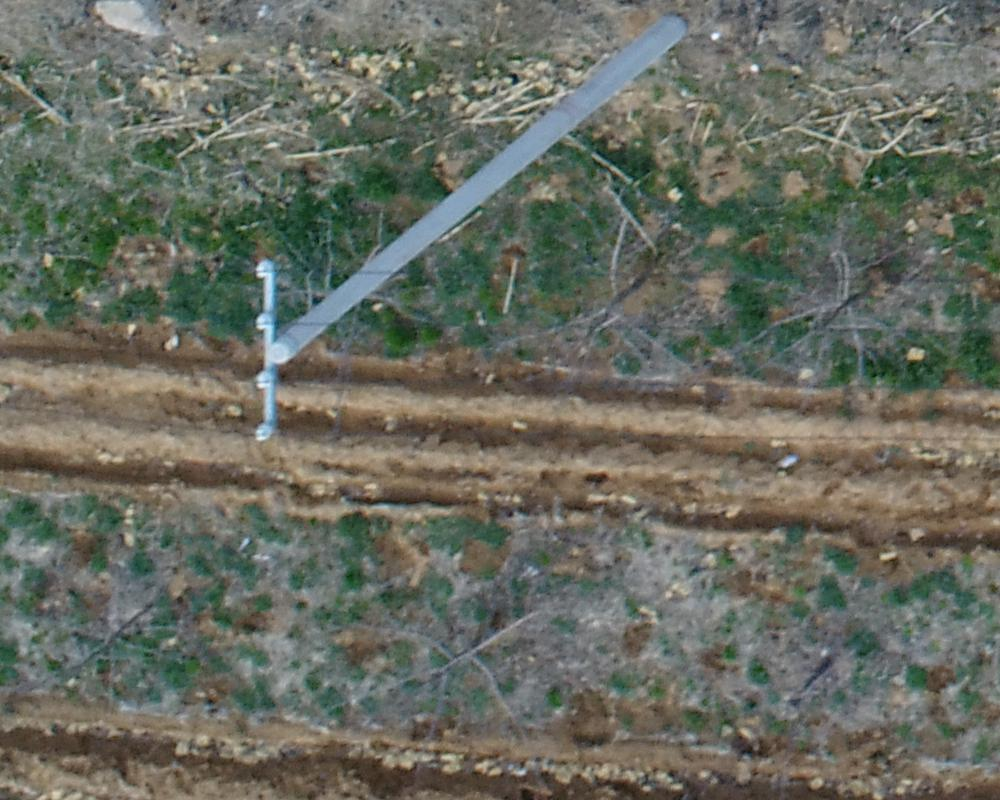apple: (291, 566, 578, 754), (478, 241, 708, 425), (728, 211, 926, 381), (19, 561, 201, 732)
